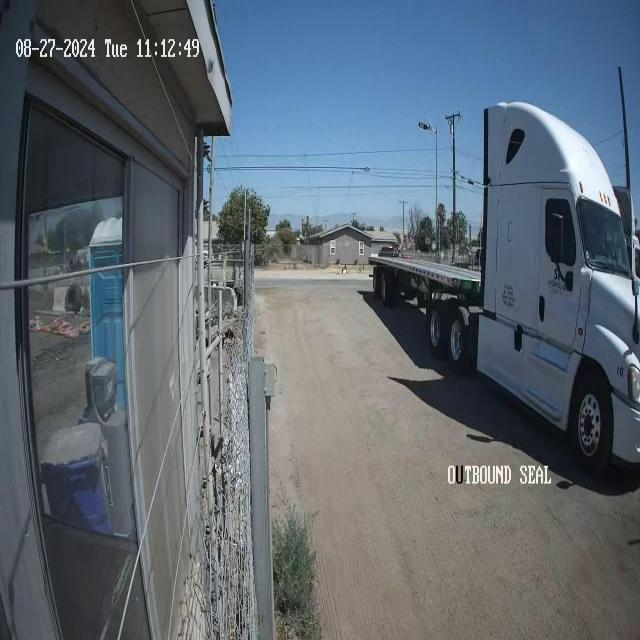BOBTAIL: (367, 96, 639, 477)
